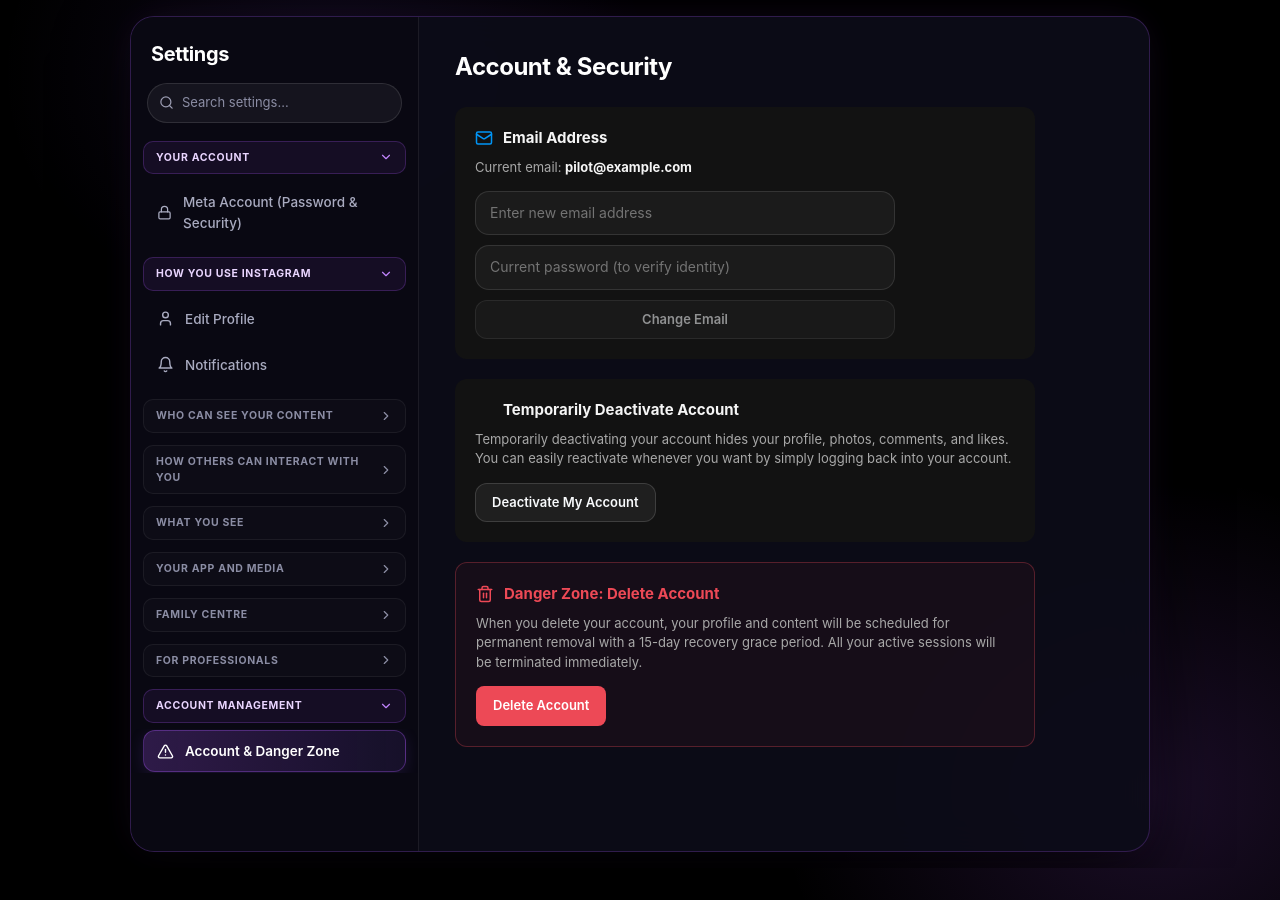
Test: User Module Complete Suite › SettingsPage Account & Danger Zone › shows confirmation modal for account deactivation
Earlier steps of the test are not shown.
Later steps or results of the test are not shown.
Check: the text "Temporarily Deactivate Account" is shown, box top-left (503, 399), bottom-right (739, 422)
Click the button "Deactivate My Account" at coordinates (565, 502), box top-left (475, 483), bottom-right (656, 522)
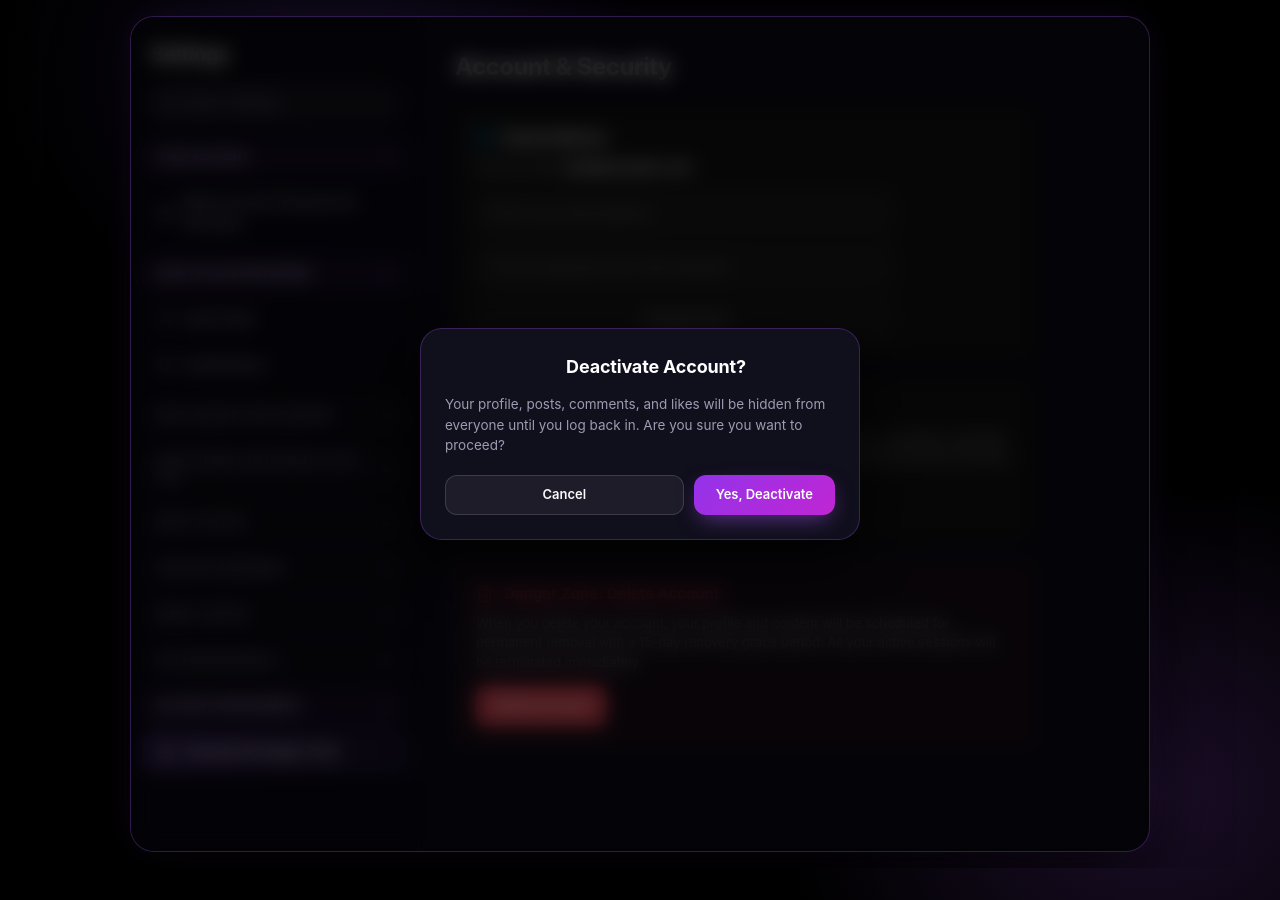
Check: the heading "Deactivate Account?" is shown, box top-left (566, 356), bottom-right (746, 377)
